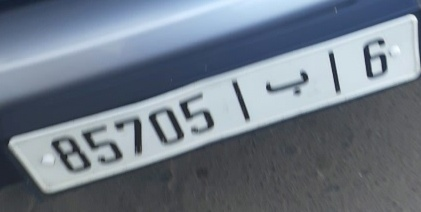0: (147, 106, 186, 149)
5: (80, 120, 128, 165), (179, 93, 215, 137)
6: (360, 37, 391, 80)
7: (112, 113, 147, 158)
8: (47, 133, 93, 175)
b: (259, 65, 313, 103)
